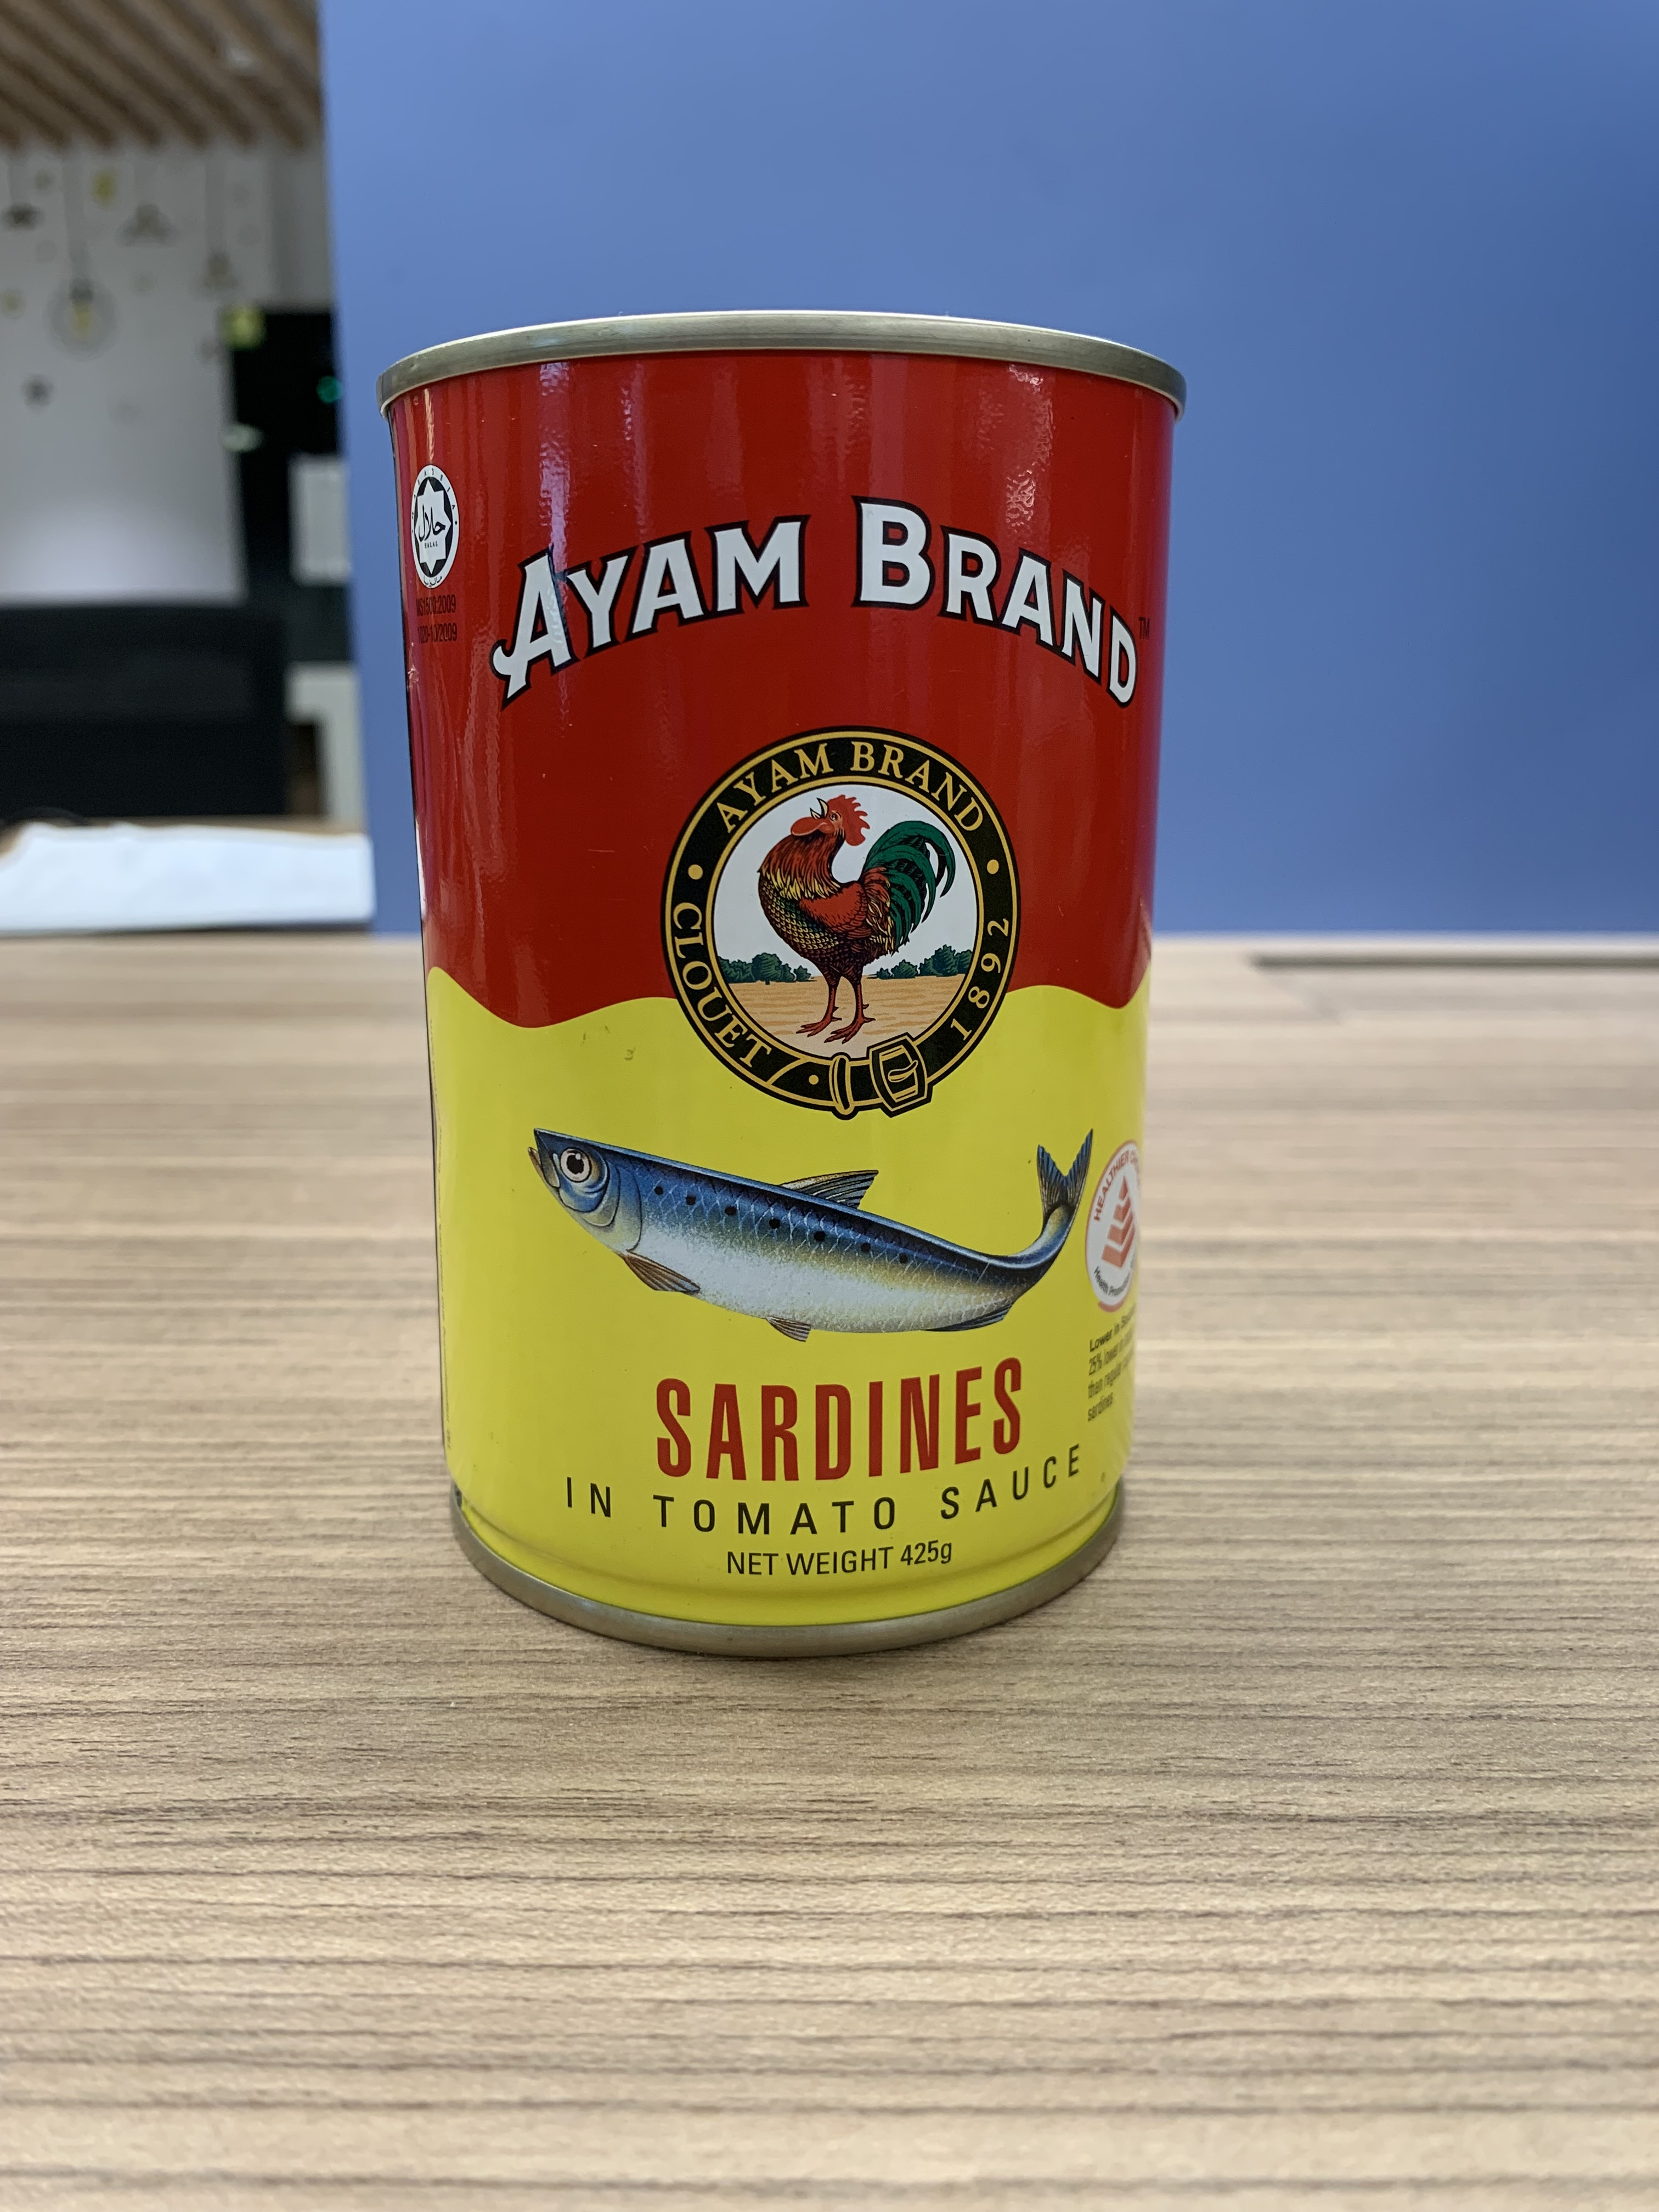halal: (415, 472, 451, 577)
